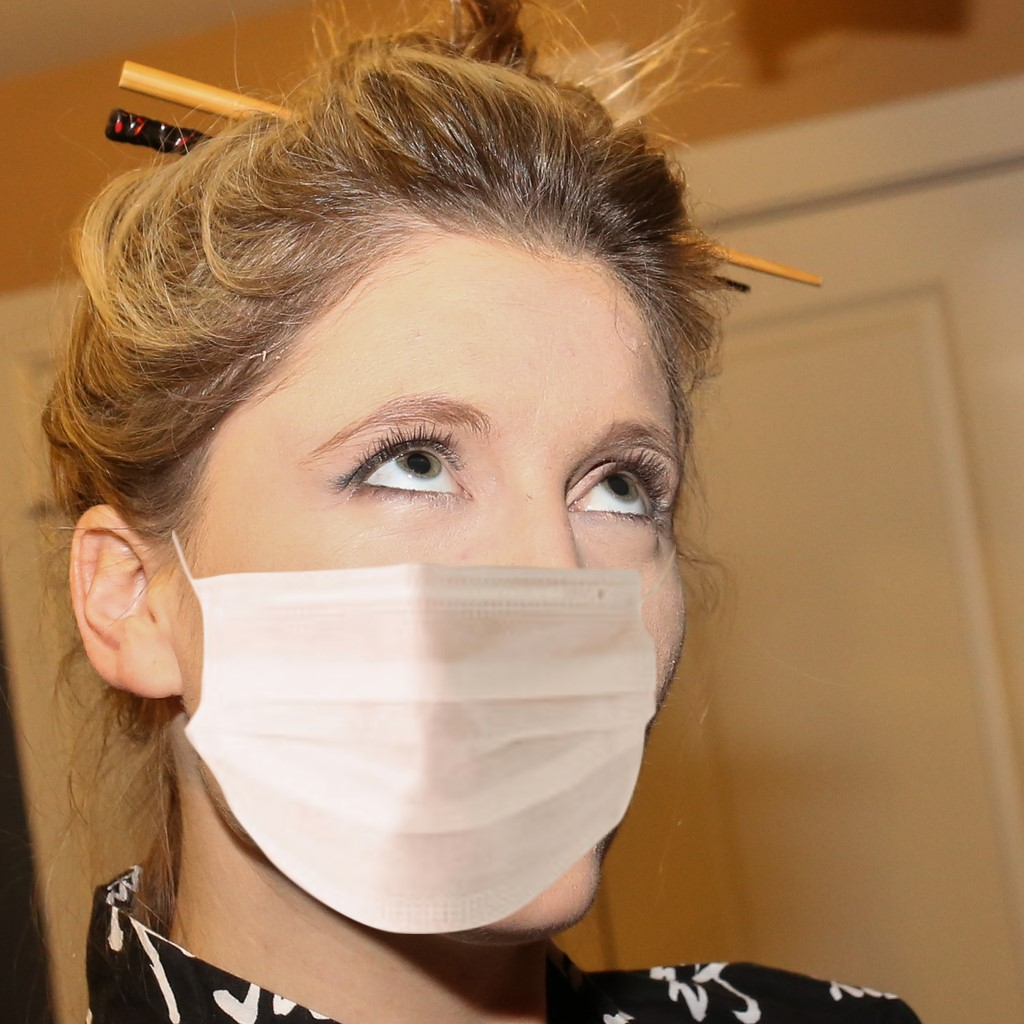con_mascara: (129, 162, 689, 939)
